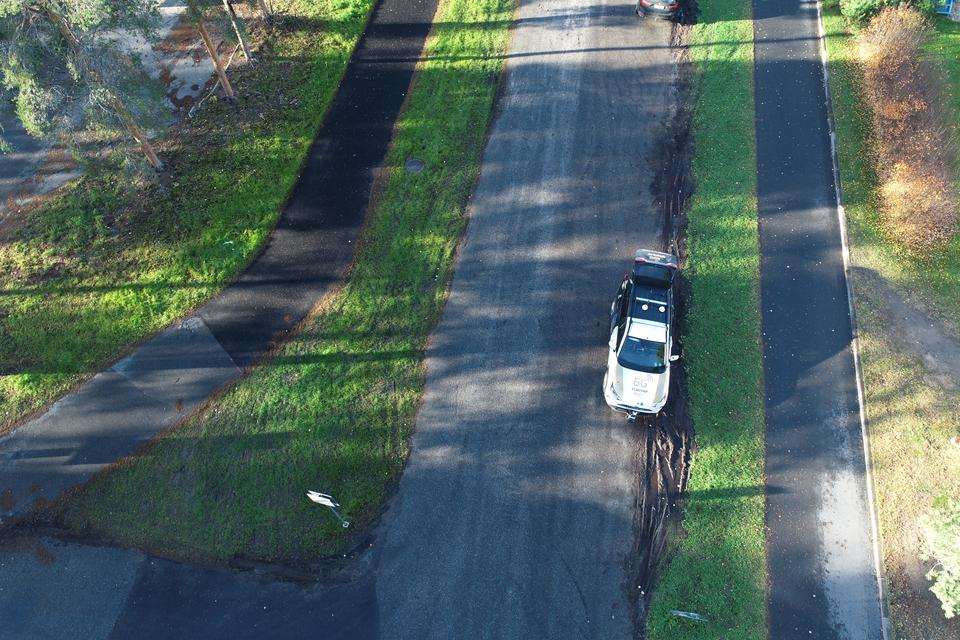intersection: (0, 380, 721, 640)
